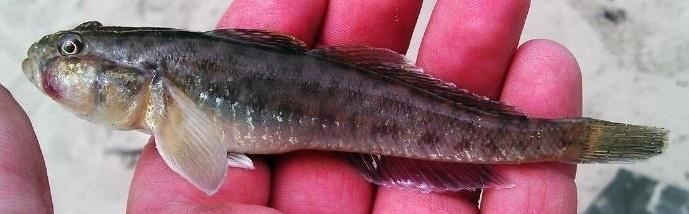Goby: (20, 19, 671, 195)
